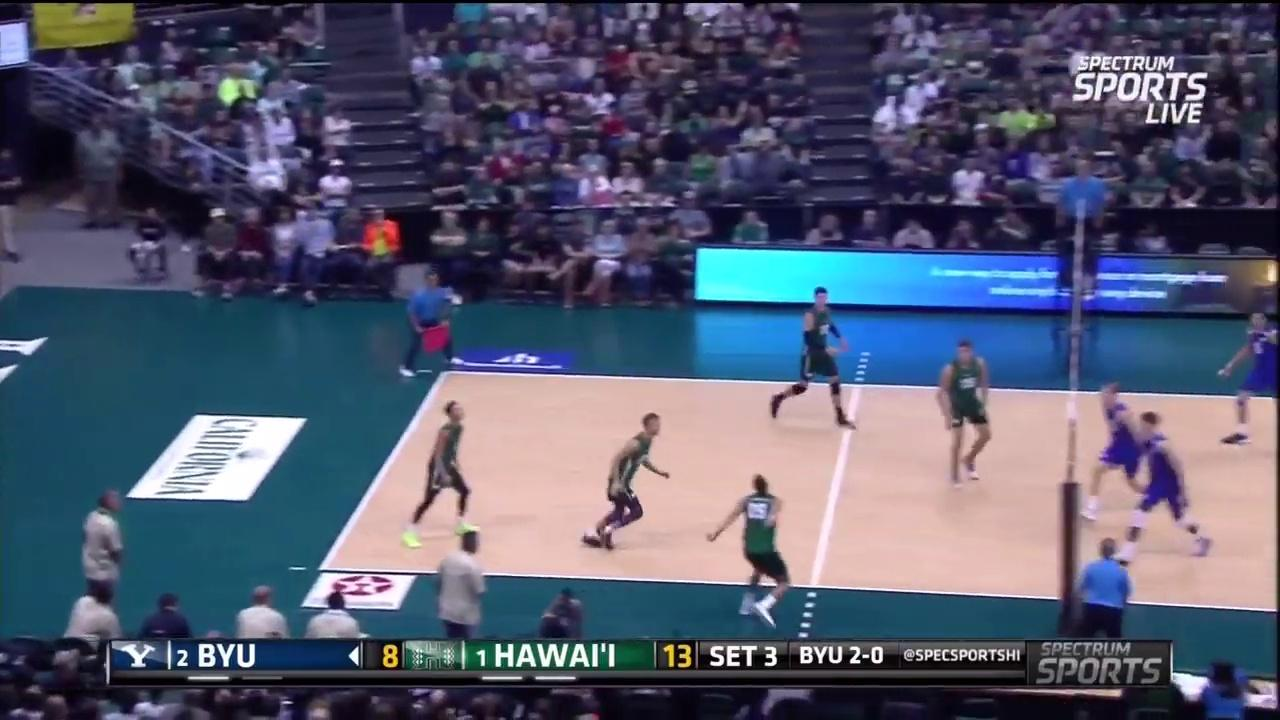player: (1122, 410, 1208, 565), (708, 472, 792, 626), (584, 417, 671, 549), (403, 399, 481, 546), (770, 289, 850, 423), (1221, 300, 1280, 456), (1089, 377, 1147, 521), (939, 343, 994, 483)
refree: (1051, 154, 1110, 293), (1073, 535, 1136, 640), (401, 266, 461, 376)
